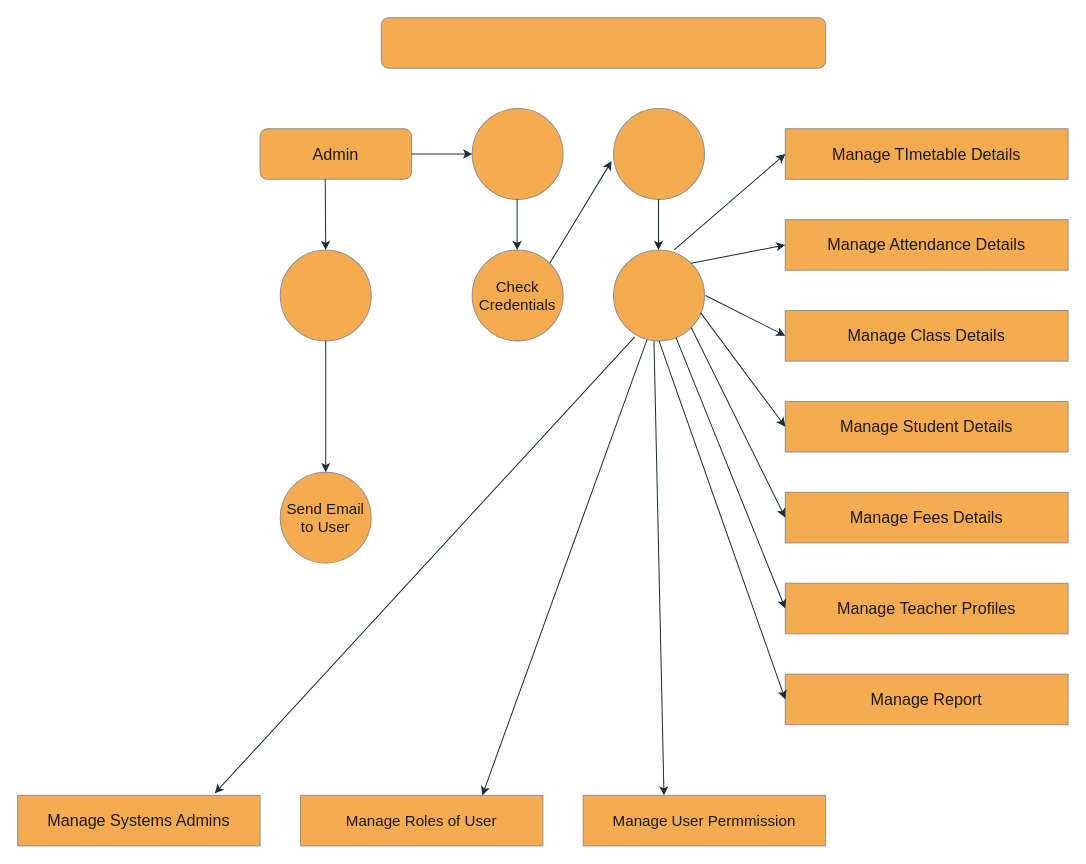
Some shapes in this 1086 by 864 pixel diagram are drawn without their labels. Here are the shapes that lost their labels. From the top down, the box of each, then its label:
(380, 17, 826, 68): Student Information System
(471, 108, 563, 199): Login to system
(613, 108, 704, 199): Check Roles of Access
(279, 249, 371, 341): Forgot Password
(613, 249, 704, 341): Manage Modules
